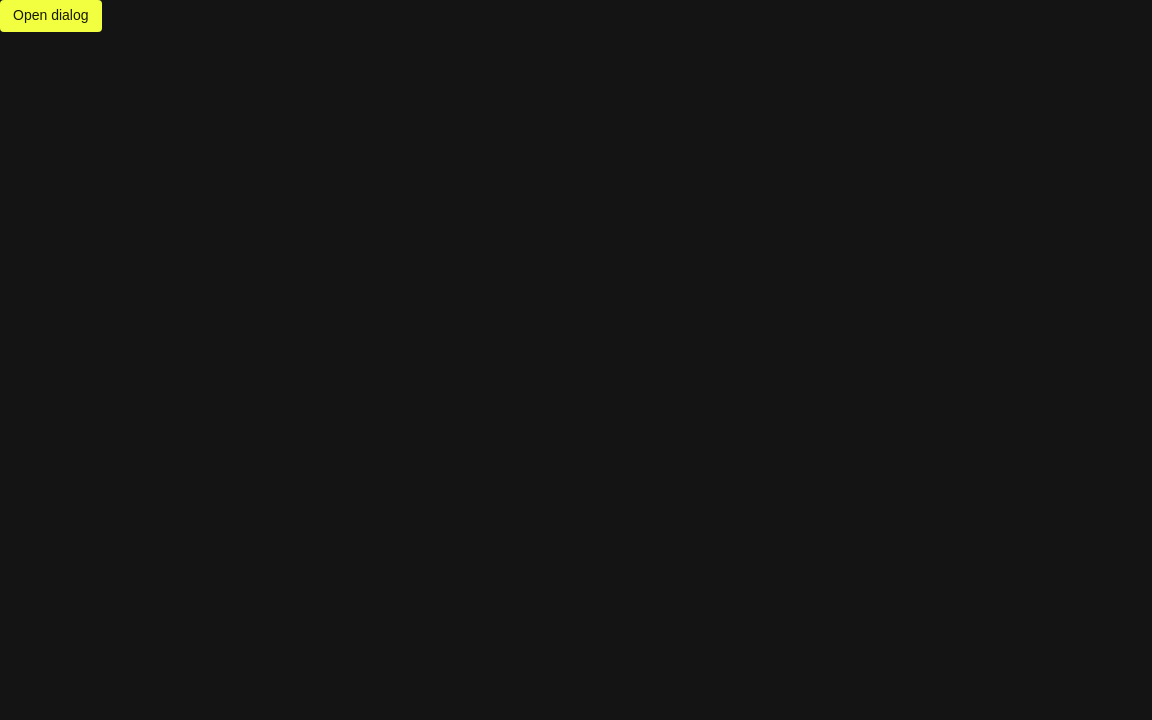
opens a named dialog, focuses its content, closes on Escape and returns focus
Click the button "Open dialog" at (51, 16), box [0,0,102,32]
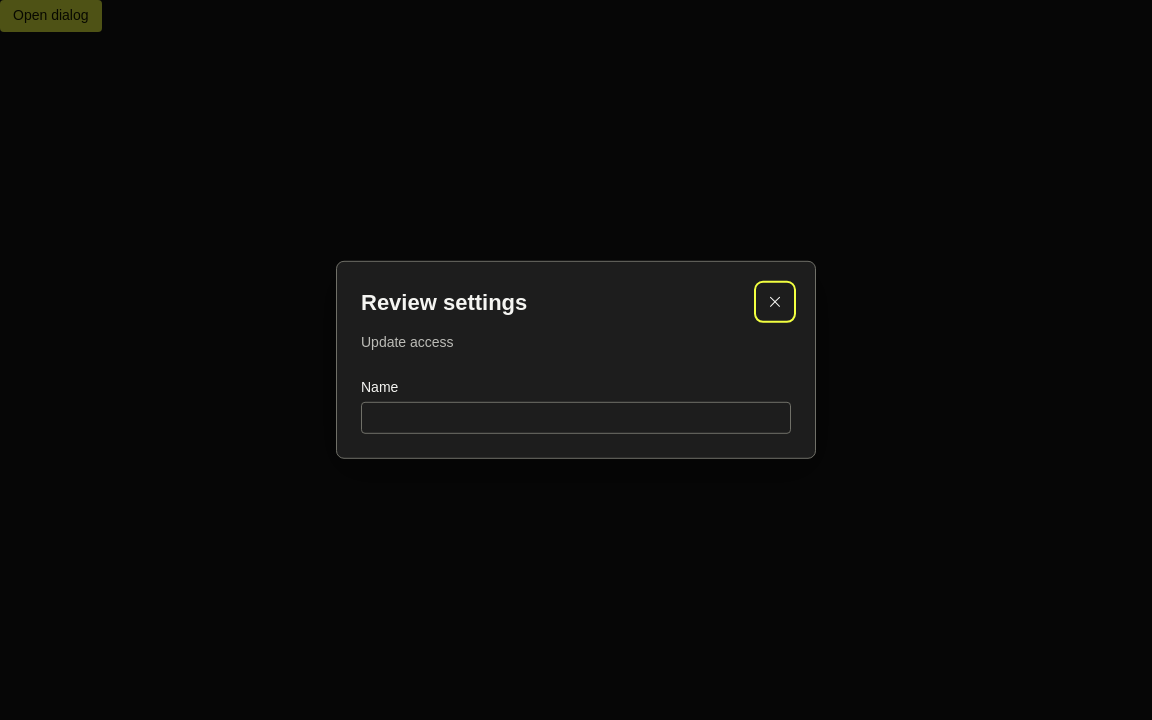
Press Escape
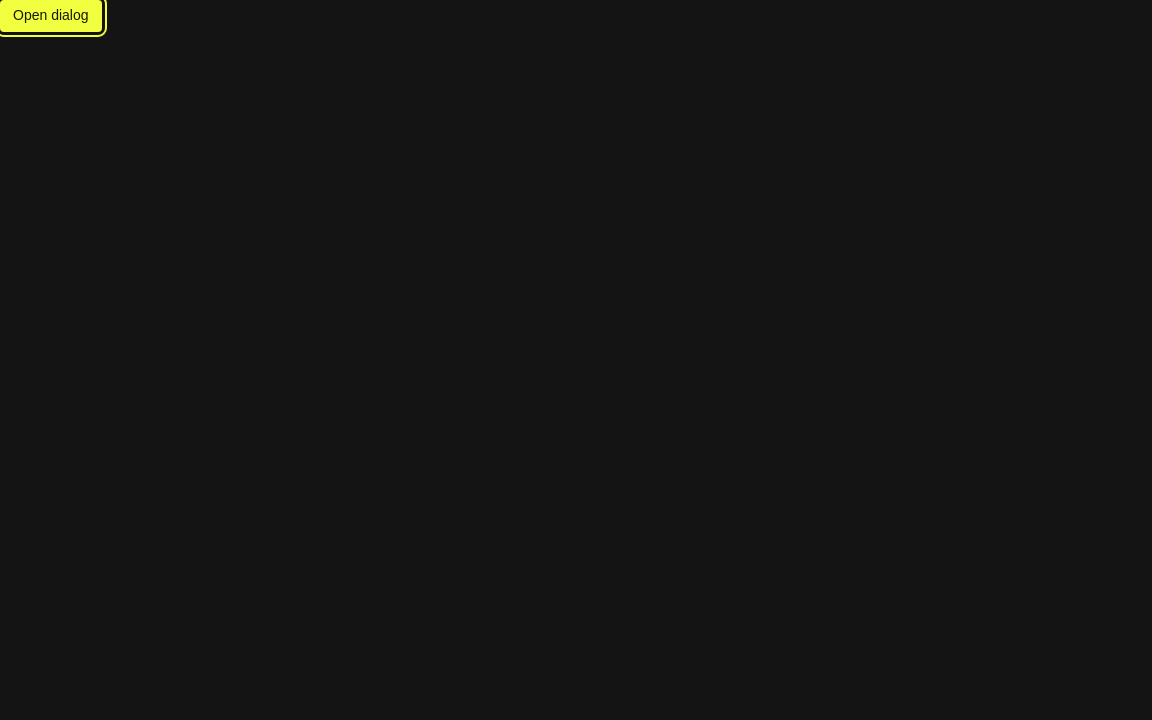
Expected: the dialog is gone
